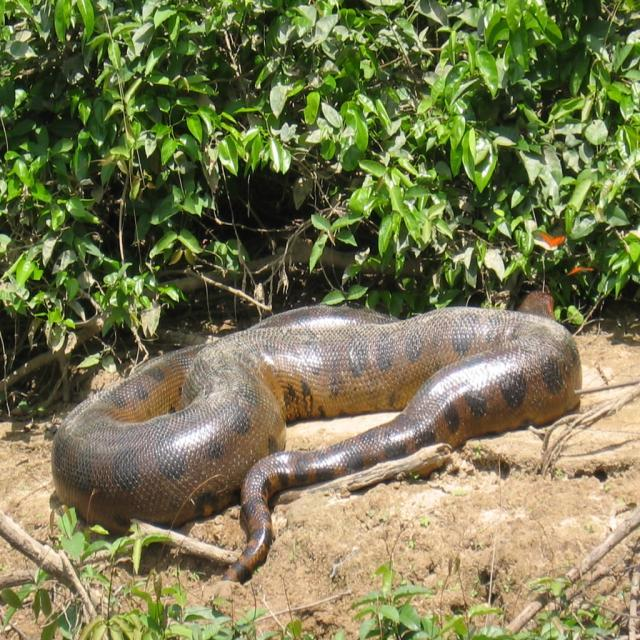Snake: (43, 282, 590, 580)
